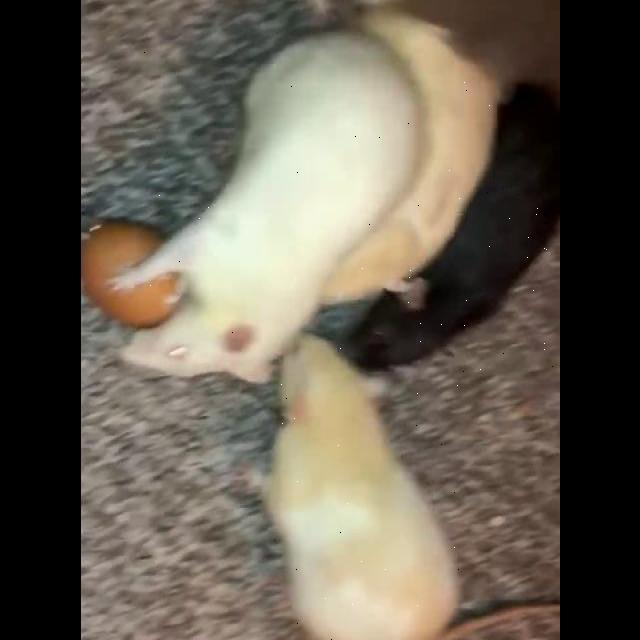rat: (128, 37, 408, 375), (264, 353, 472, 640), (371, 82, 560, 374)
